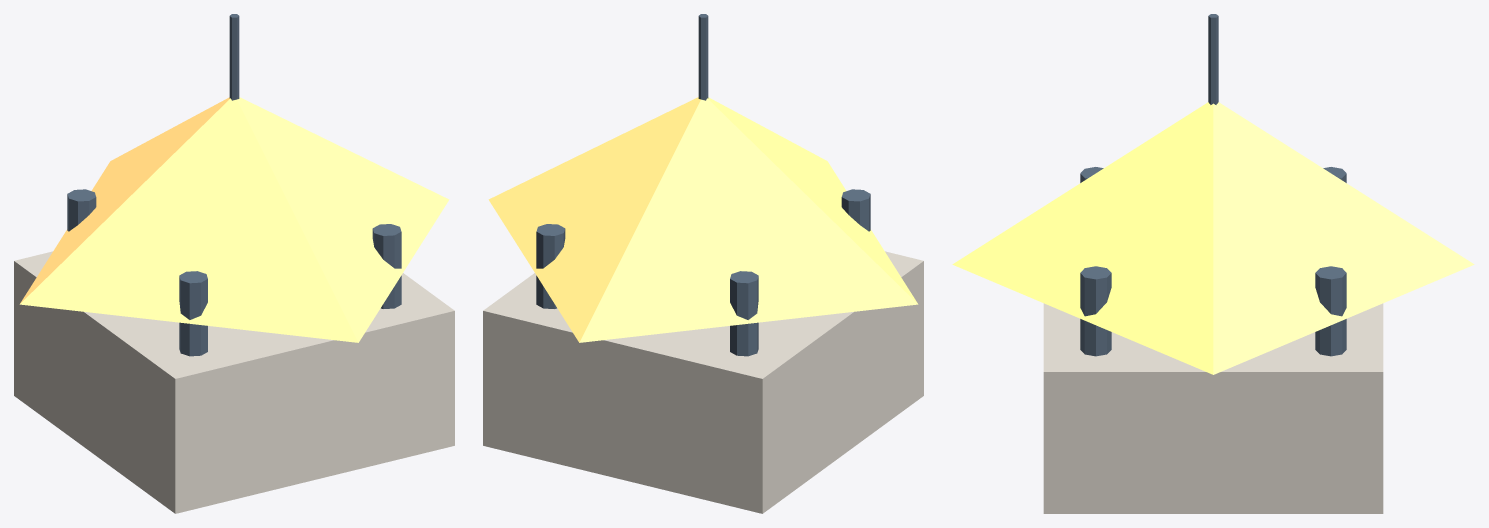
Rendered from bldg_town.glb.
The picture shows the model from 3 angles, left to right: view 1: azimuth 30°, elevation 25°; view 2: azimuth 150°, elevation 25°; view 3: azimuth 270°, elevation 25°; orthographic projection. The views are drawn at different scales.
Parts seen in each view (by area): view 1: Base, Roof, Column, Column.001, FlagPole, Column.002; view 2: Base, Roof, Column.002, Column.003, FlagPole, Column; view 3: Roof, Base, Column.001, Column.003, FlagPole.
Part boxes in pixels (x1,y1,x2,y2): Base: [14, 251, 454, 513]; Roof: [19, 97, 449, 342]; Column: [179, 271, 207, 356]; Column.001: [372, 224, 401, 308]; FlagPole: [229, 14, 239, 100]; Column.002: [67, 189, 96, 231]; Base: [483, 251, 923, 513]; Roof: [488, 97, 918, 342]; Column.002: [730, 271, 758, 356]; Column.003: [536, 224, 565, 308]; FlagPole: [698, 14, 708, 100]; Column: [841, 189, 870, 231]; Roof: [952, 102, 1474, 374]; Base: [1043, 303, 1383, 513]; Column.001: [1080, 266, 1111, 356]; Column.003: [1315, 266, 1346, 356]; FlagPole: [1208, 14, 1218, 104].
Bounding box in the file's own units: 2 × 1.8 × 2.
